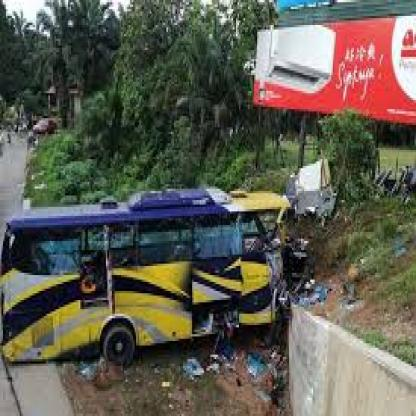accident: (1, 144, 314, 380)
